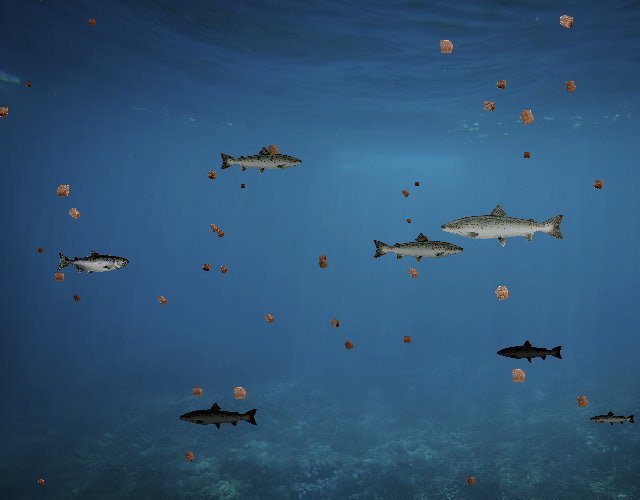Fish: (438, 202, 567, 248), (372, 231, 466, 265), (218, 145, 304, 176), (179, 402, 260, 431), (56, 249, 129, 275), (496, 340, 564, 364), (590, 411, 637, 428)
Pellet: (62, 201, 87, 226), (570, 390, 594, 414), (461, 472, 480, 491), (34, 475, 48, 489), (21, 79, 33, 91)
